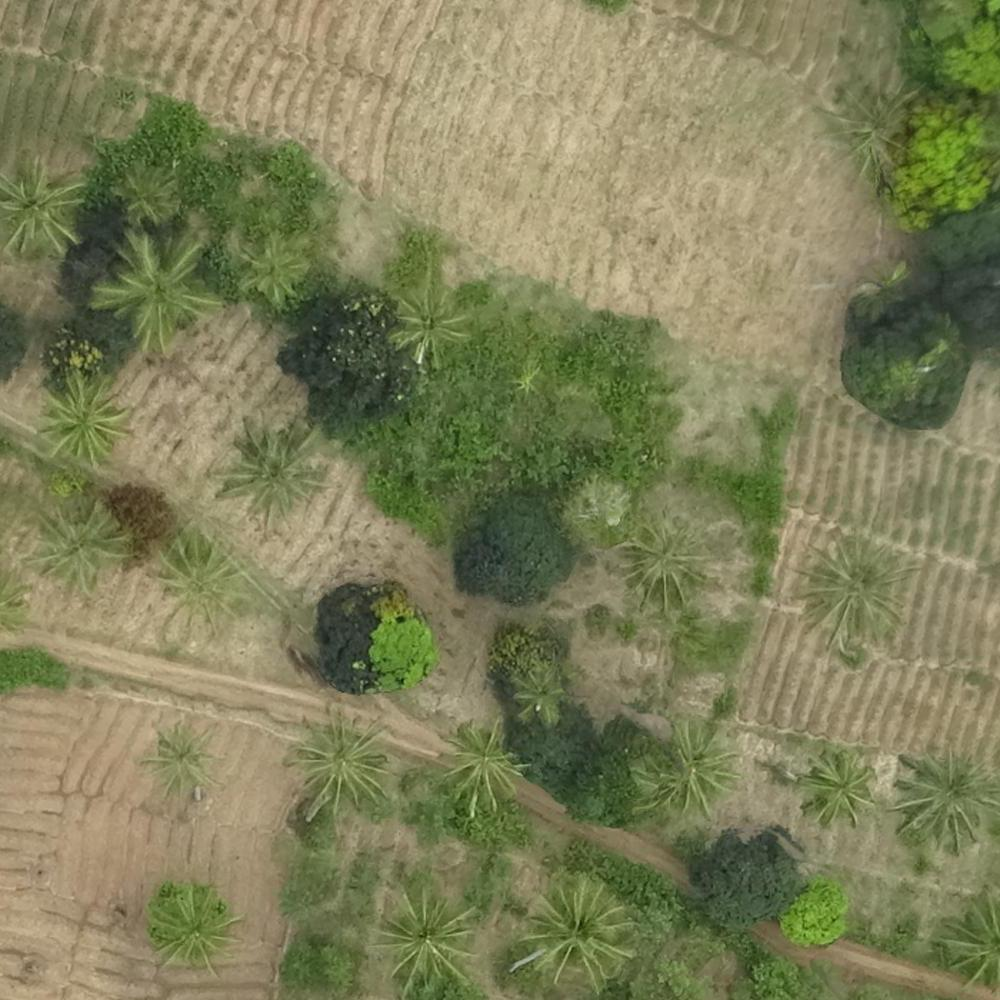not palm: (298, 17, 392, 116), (543, 143, 631, 233), (534, 25, 617, 119), (13, 726, 102, 813), (419, 27, 511, 111), (12, 11, 100, 95), (699, 228, 787, 311), (663, 26, 761, 100), (1, 826, 87, 910), (649, 130, 734, 213), (917, 450, 1000, 532), (595, 308, 676, 386), (434, 148, 507, 228)
